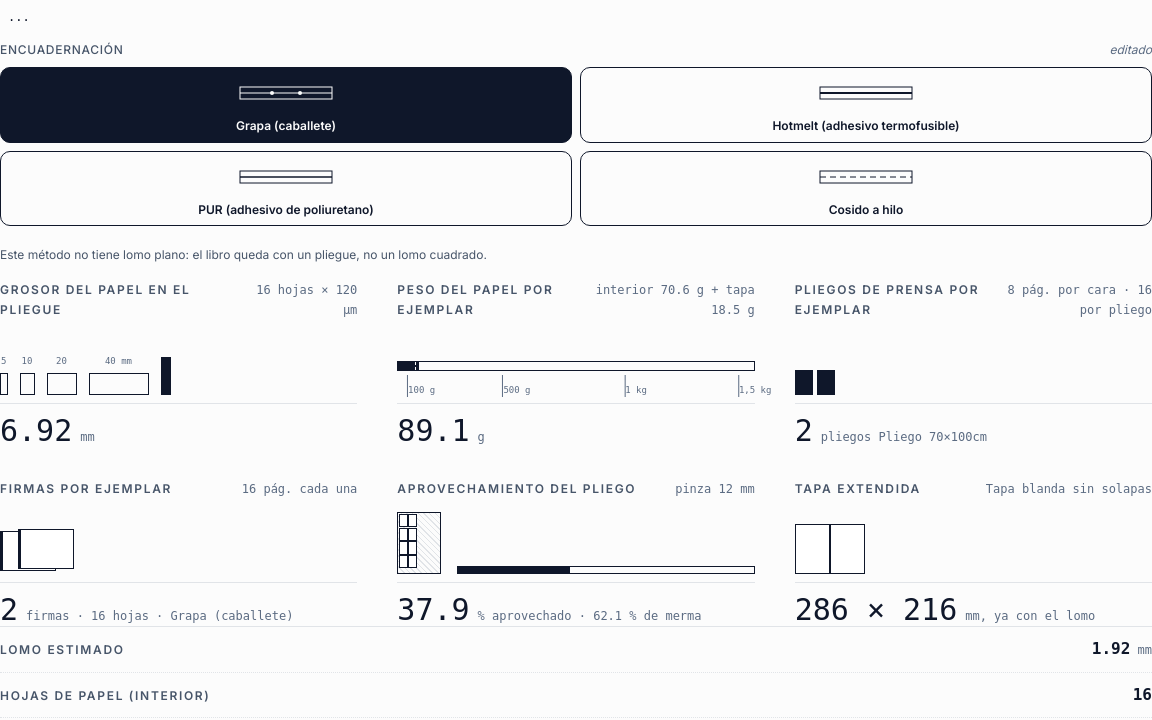
Test: Edit a factory binding or proportion (UX-6) › restores a patched binding to its factory values with the undo control
Check: the text "editado" is shown, box x1=1110 y1=41 x2=1151 y2=59
Step 1. Click the button "···" → (19, 20), box x1=0 y1=0 x2=38 y2=40
(page scrolled)
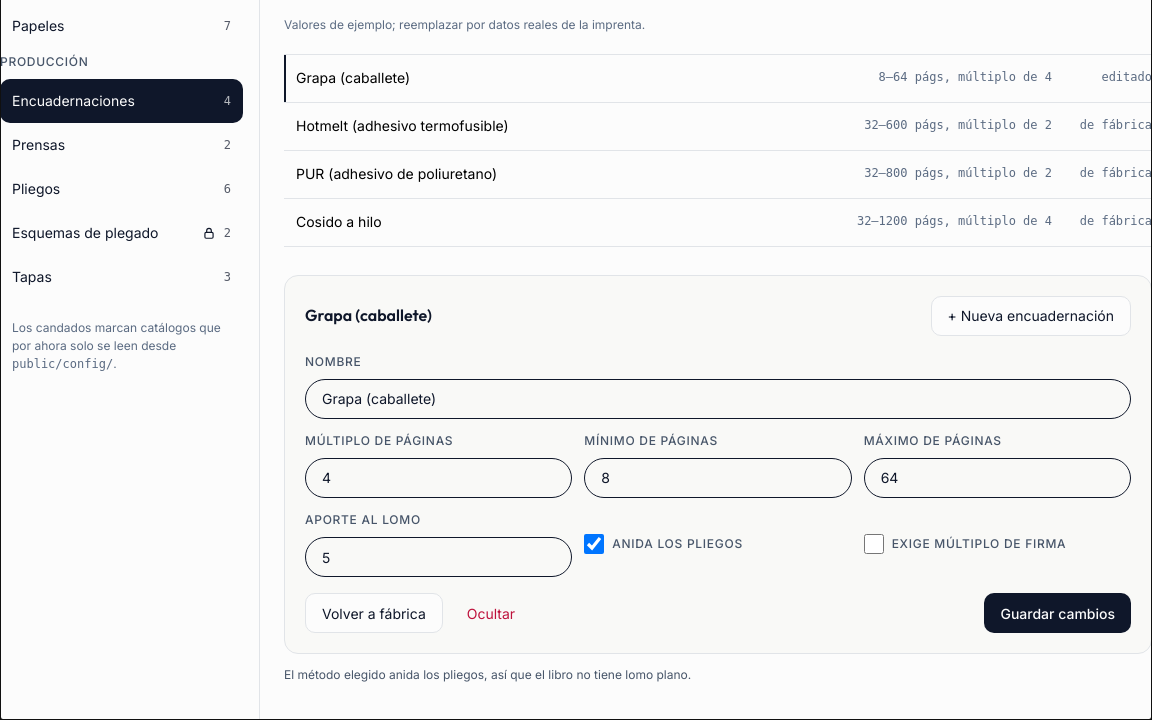
Step 2. Click the button "Volver a fábrica" → (374, 613), box x1=305 y1=593 x2=443 y2=633
(page scrolled)
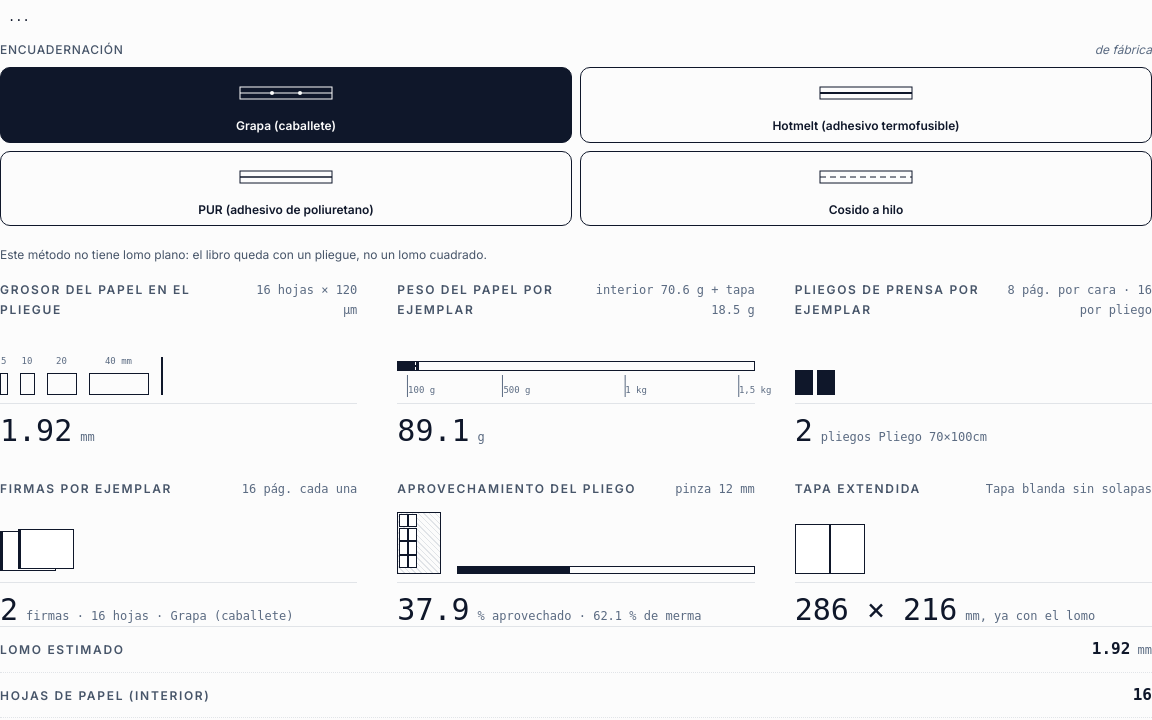
Check: the text "de fábrica" is shown, box x1=1095 y1=41 x2=1151 y2=59
